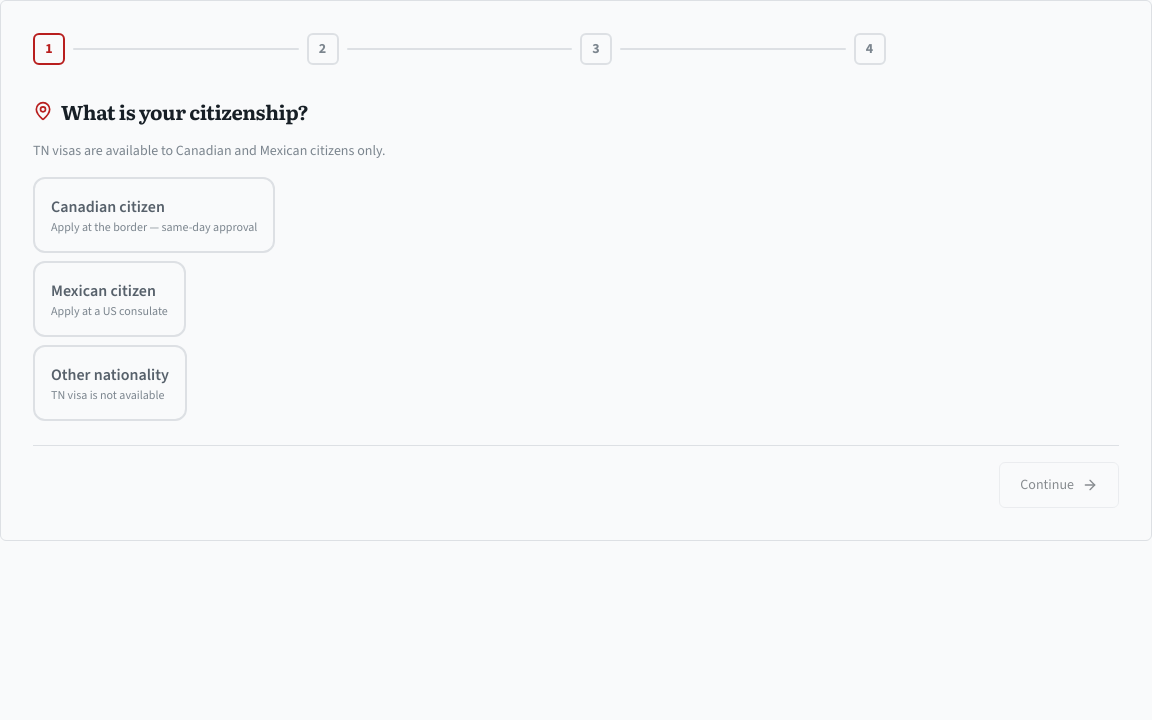
EligibilityChecker › progresses to job offer step
Click the text "Canadian citizen" at (108, 206), box [51,196,165,217]
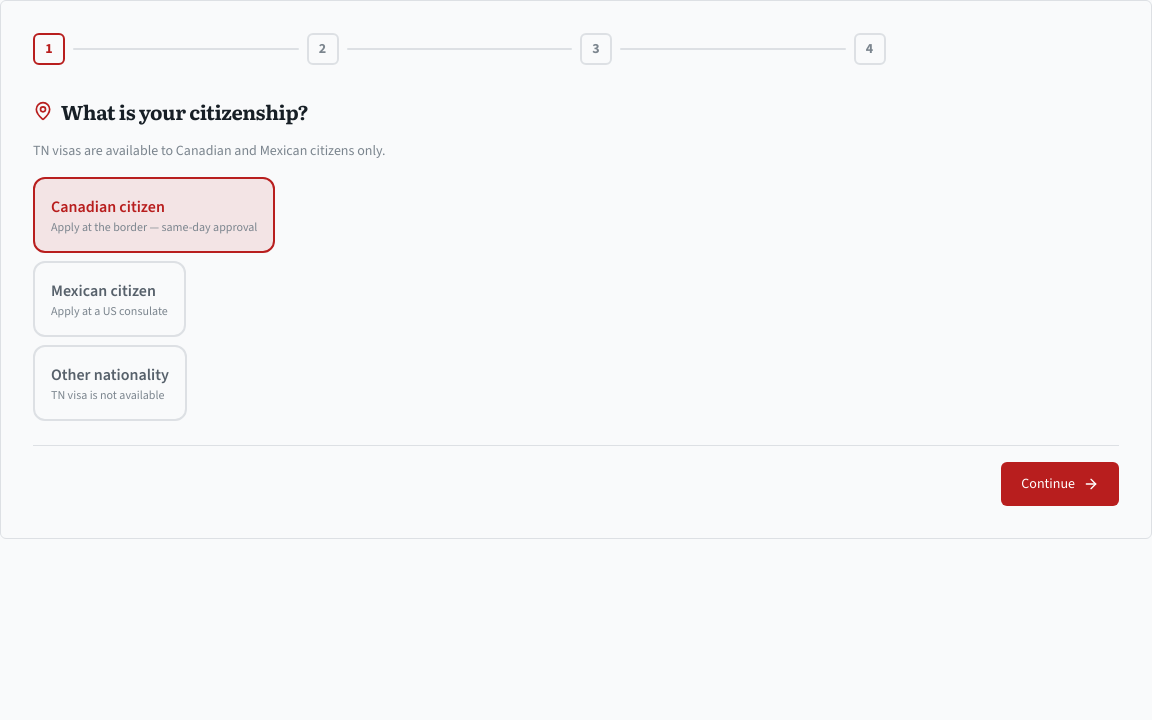
Click the button "Continue" at (1060, 484), box [1001,462,1119,506]
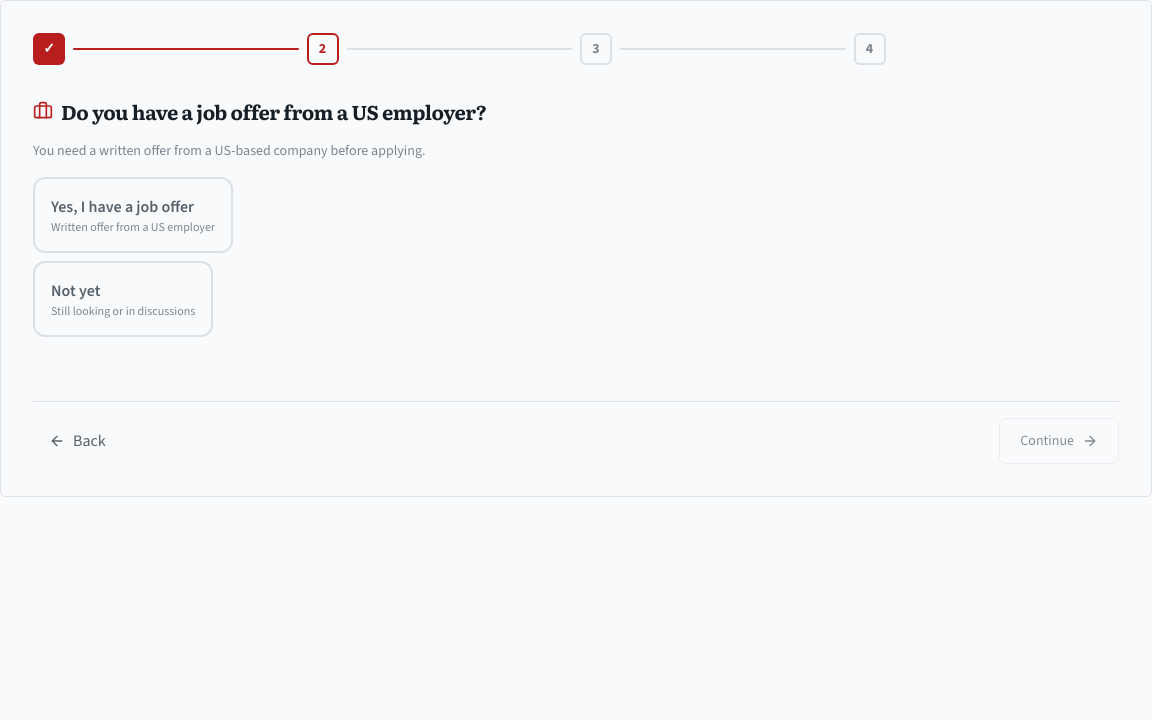
Expected: the heading "Do you have a job offer from a US employer?" is shown, [61,97,486,125]
